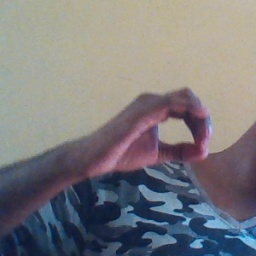O: (100, 80, 218, 177)
